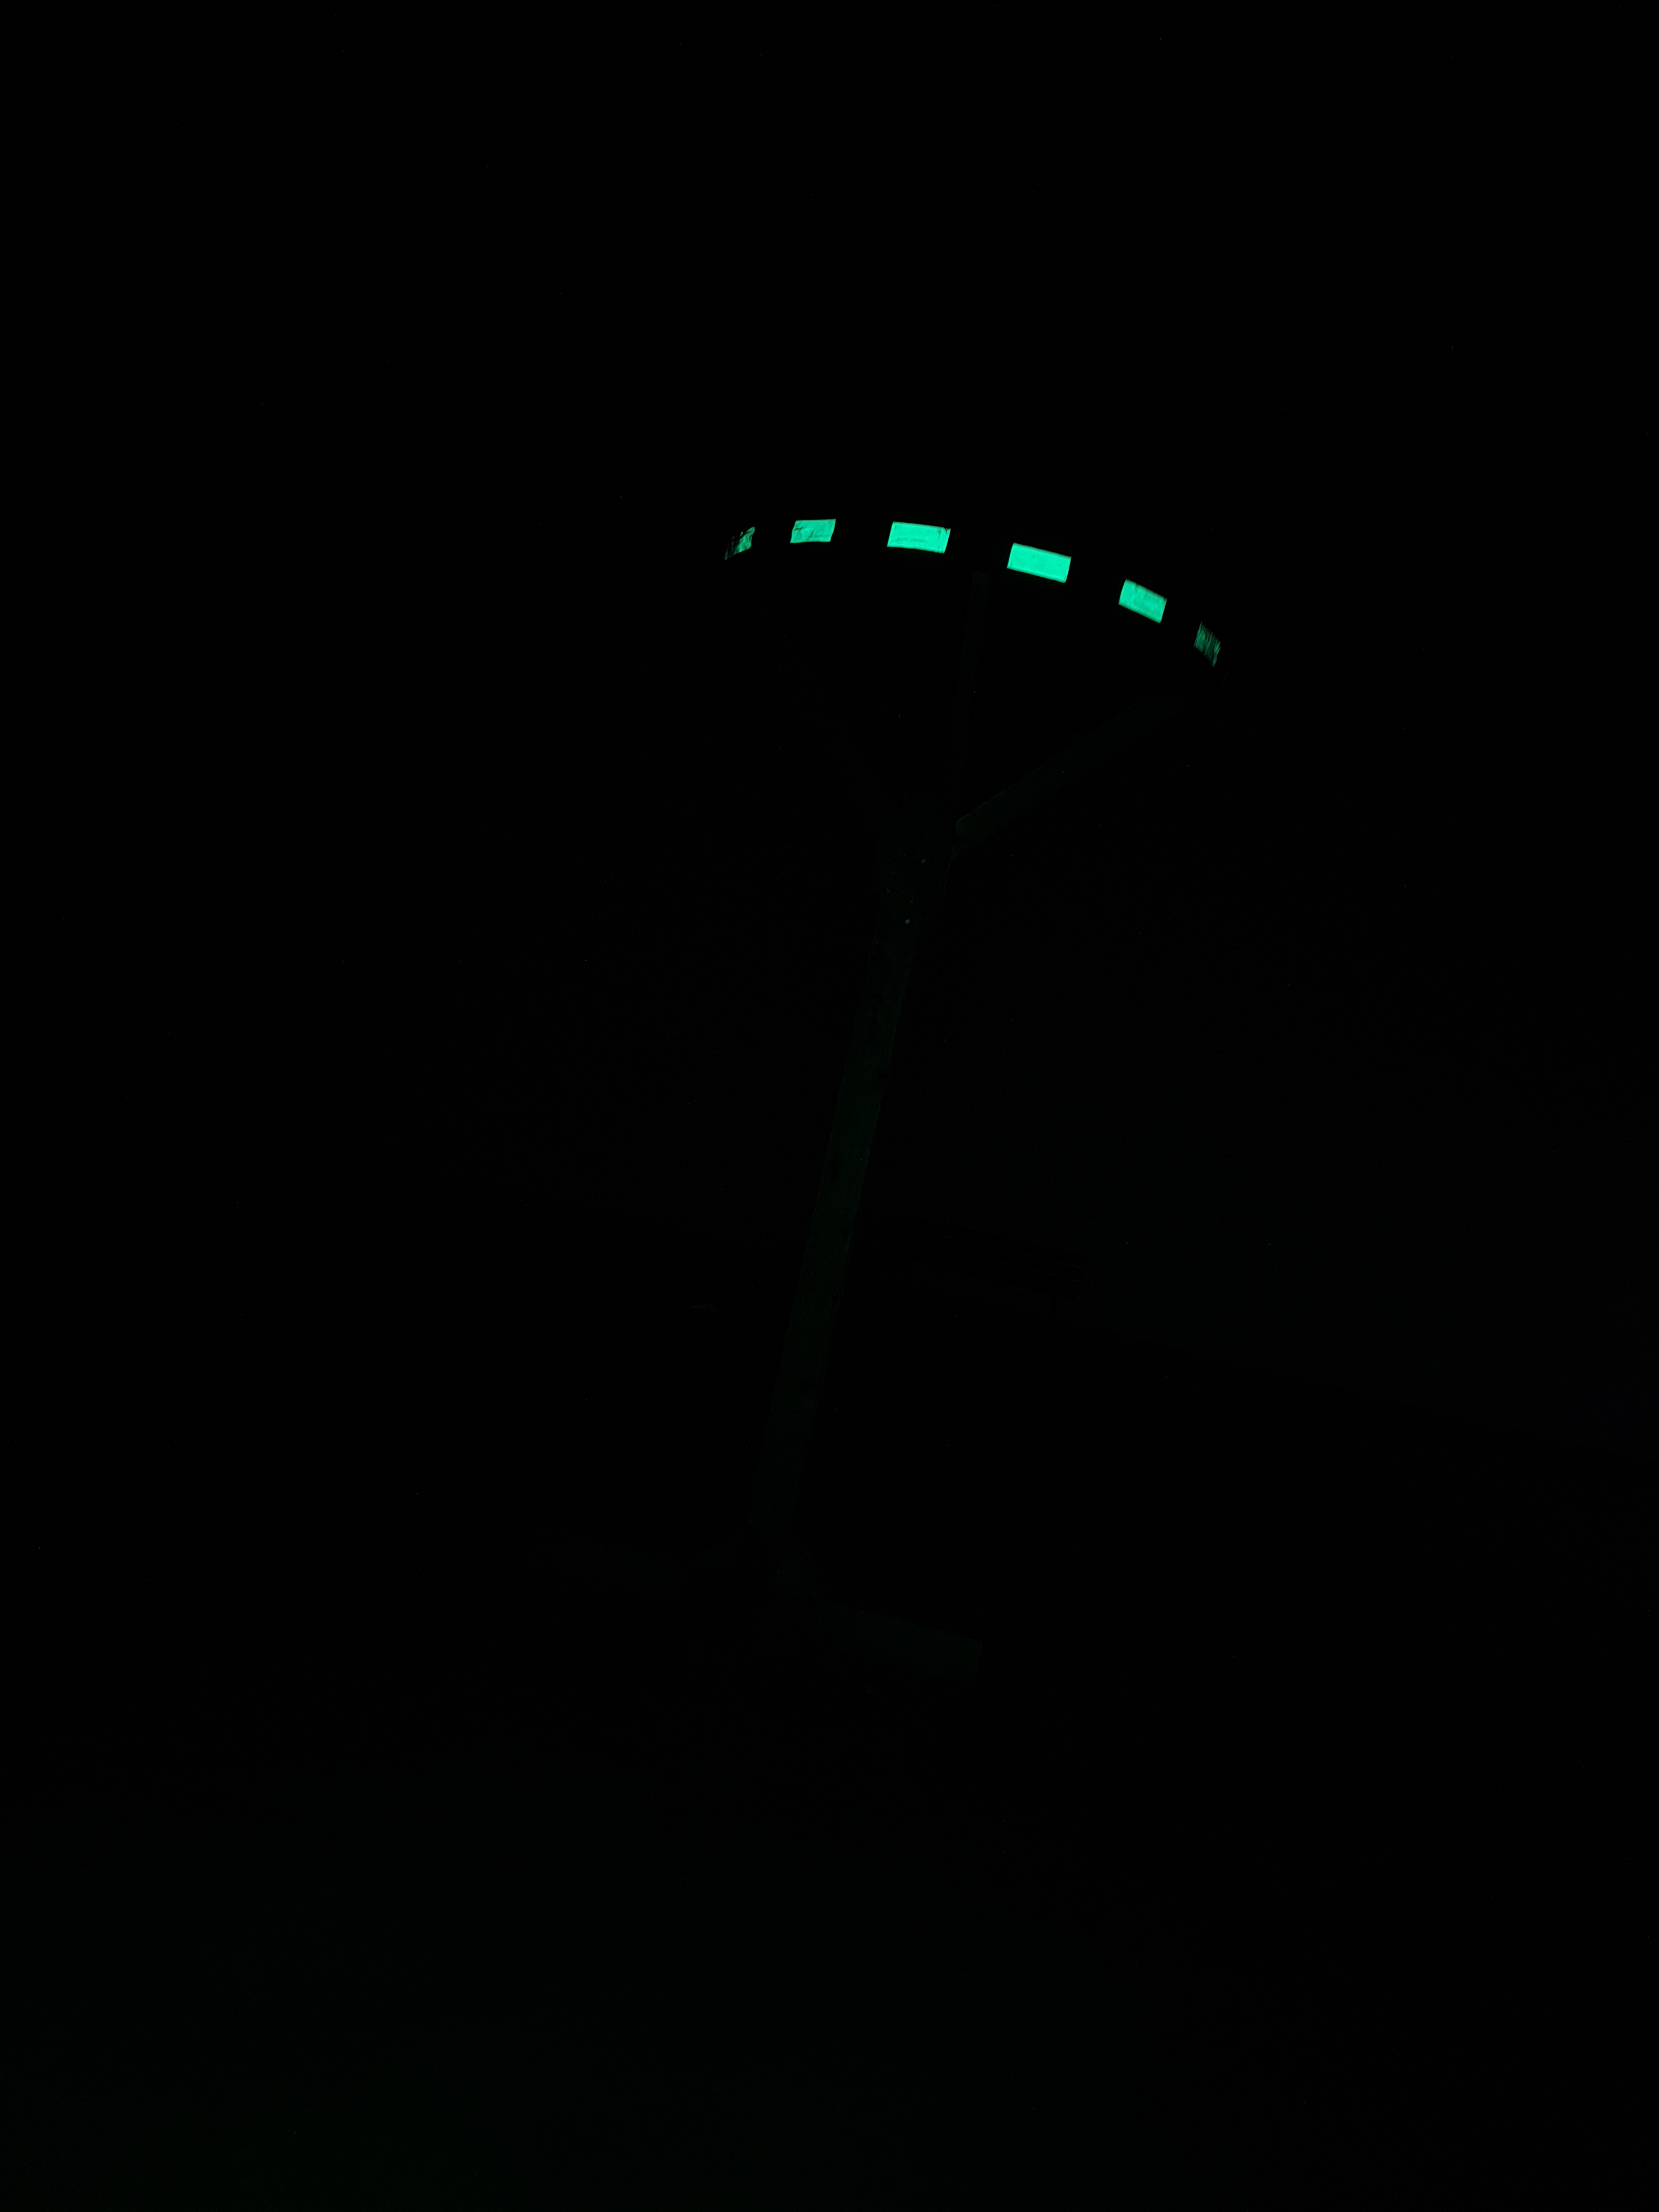hoop: (716, 498, 1234, 671)
